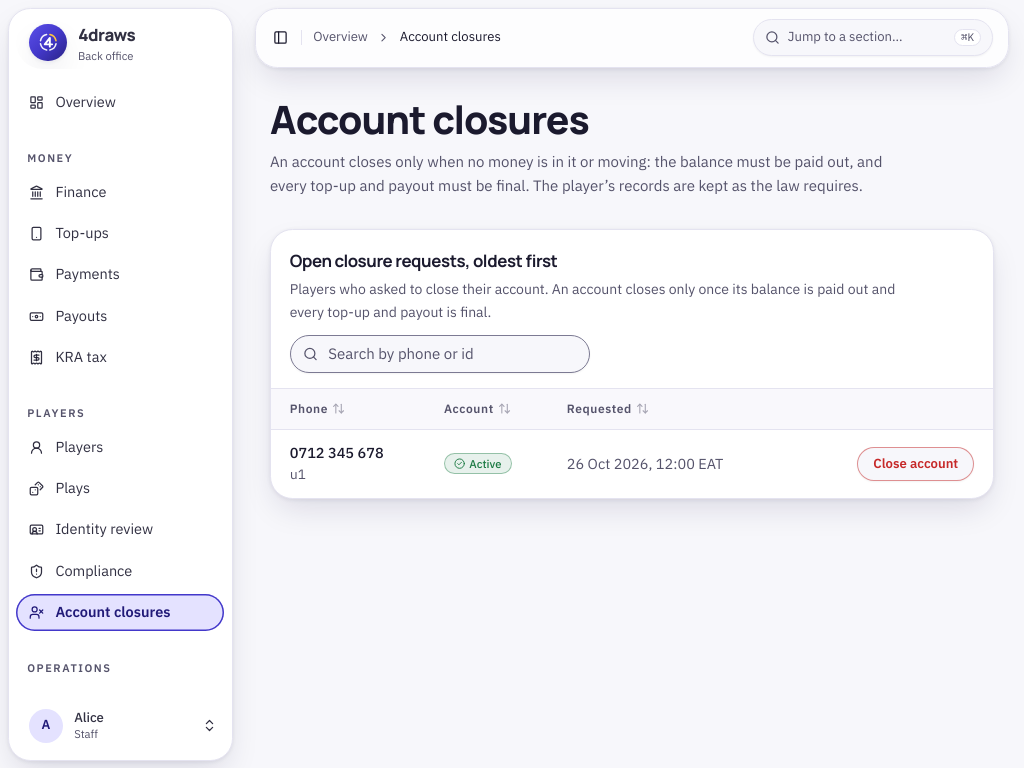
closures › a refused closure explains why (money still in the account)
The width and height of the screenshot is (1024, 768).
What coordinates should you click on to do the following:
click the button "Close account"
I would click on:
 (916, 464)
Its box is [857, 447, 974, 481].
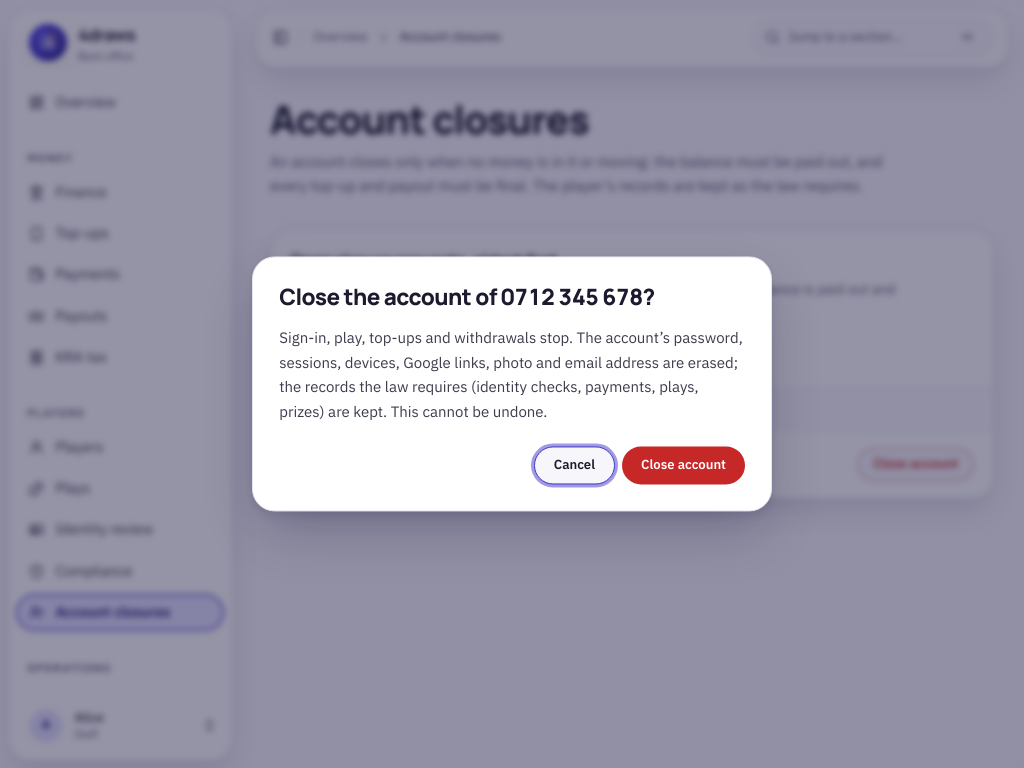
What coordinates should you click on to do the following:
click the button "Close account"
I would click on:
 (684, 466)
Its box is [622, 447, 745, 484].
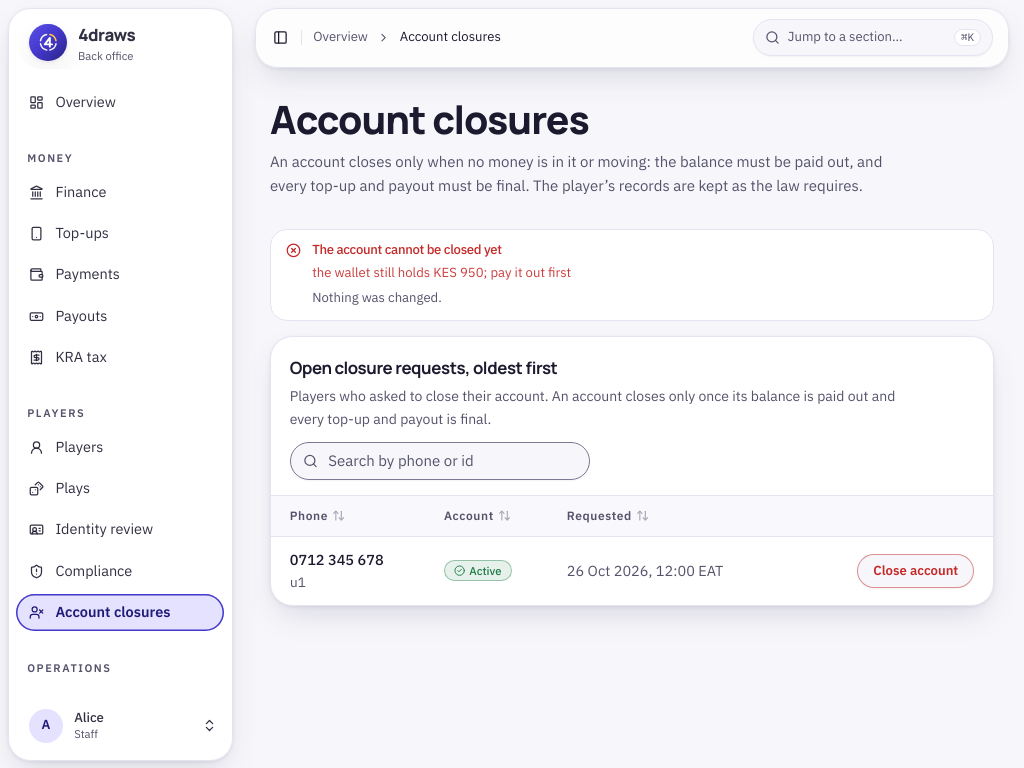
Now the message shows "the wallet still holds KES 950", box [312, 263, 571, 280]
